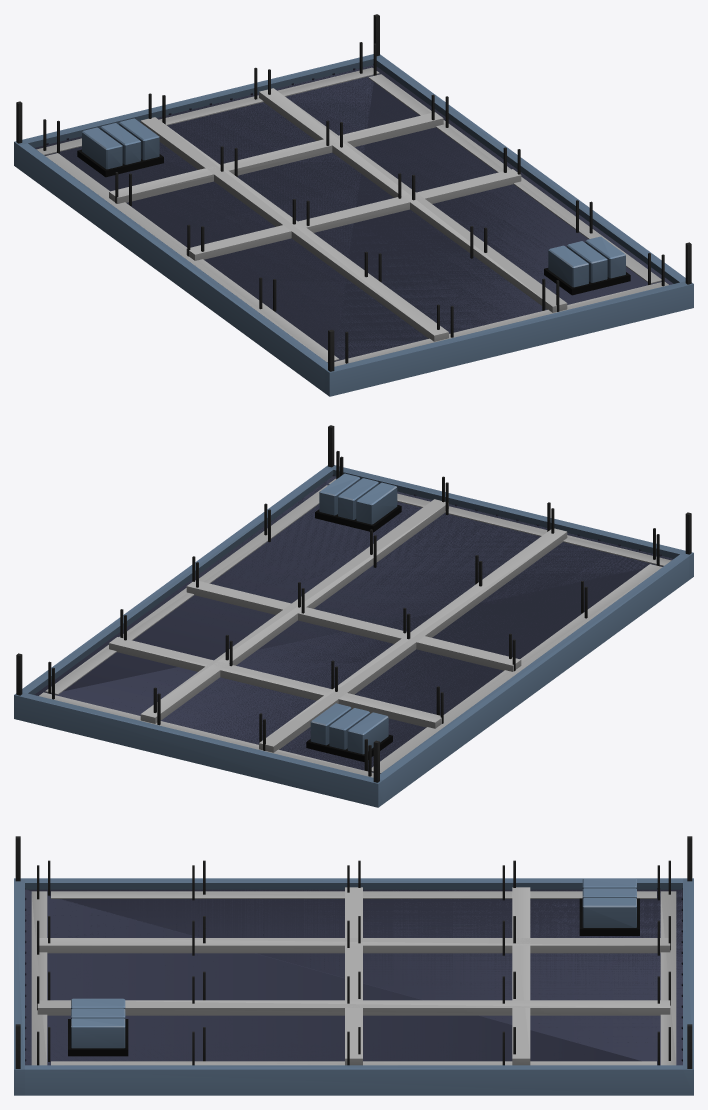
File: veyran_barracks_foundation.glb
3 renders of one model, top to bottom at view 1: azimuth 30°, elevation 25°; view 2: azimuth 150°, elevation 25°; view 3: azimuth 270°, elevation 25°, orthographic. The views are drawn at different scales.
Visible parts, largest first — view 1: body (×3); view 2: body (×3); view 3: body (×2).
Boxes of the visible parts, x1=… form: body (×3): x1=14, y1=14, x2=693, y2=396; body (×3): x1=14, y1=425, x2=693, y2=807; body (×2): x1=14, y1=836, x2=693, y2=1095.
Size of the model in its own units: 7.48 by 1.25 by 11.23.
